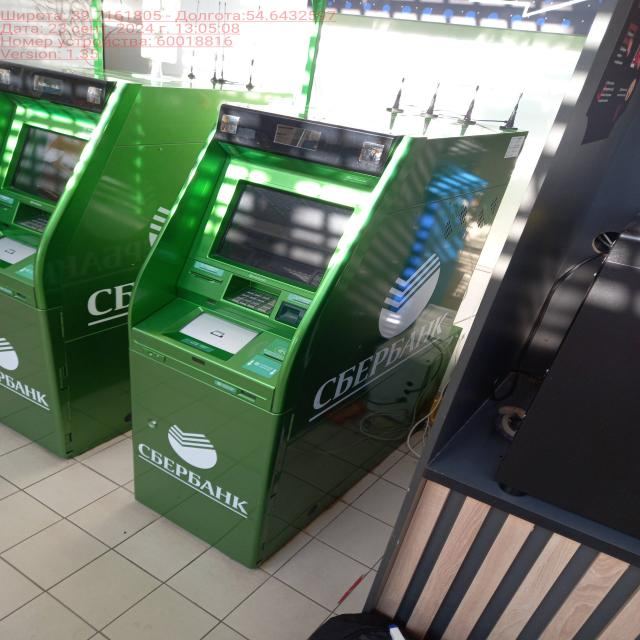bank: (128, 91, 535, 572), (0, 72, 232, 447)
